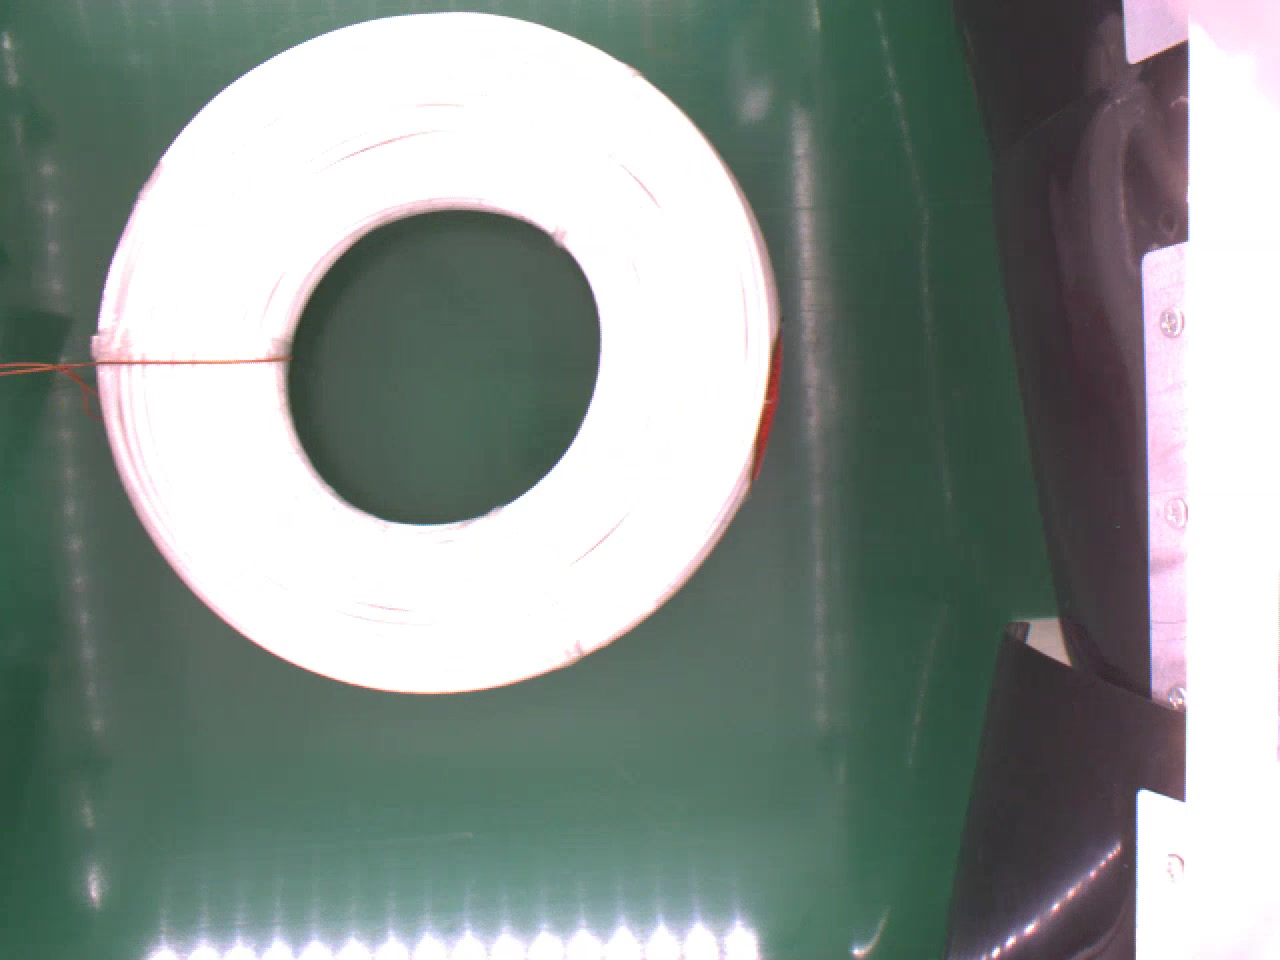white: (90, 12, 785, 691)
